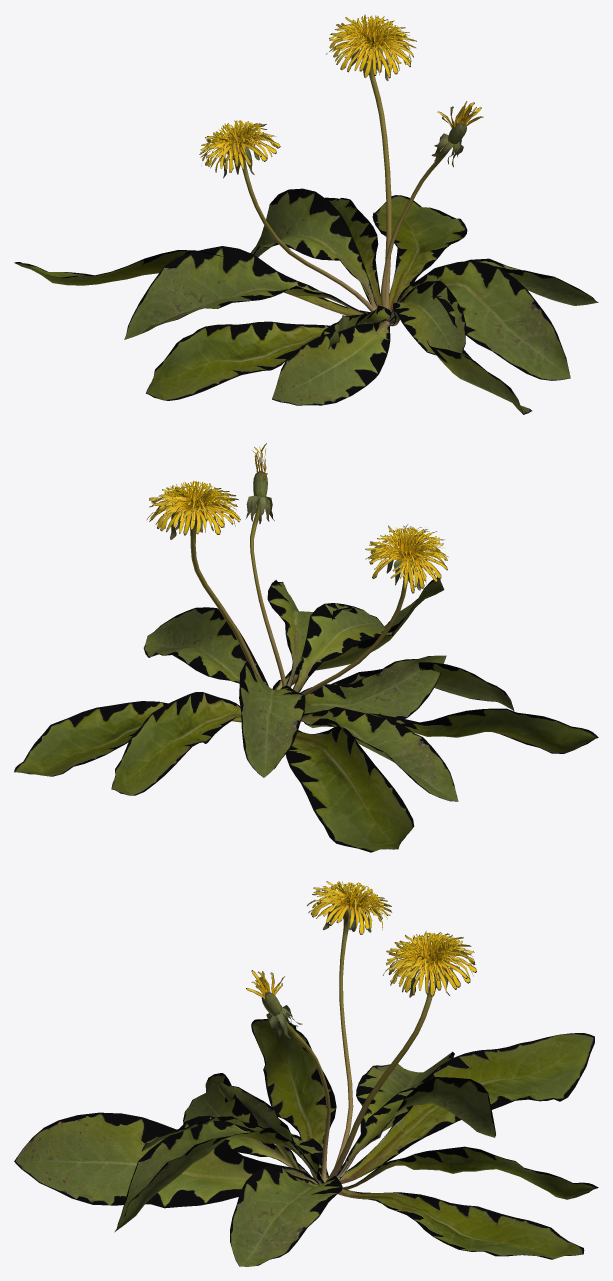
File: Planta_7.glb
3 views of the same model, one above another, from view 1: azimuth 30°, elevation 25°; view 2: azimuth 150°, elevation 25°; view 3: azimuth 270°, elevation 25° (orthographic). The views are drawn at different scales.
Parts seen in each view (by area): view 1: Planta 7; view 2: Planta 7; view 3: Planta 7.
Boxes of the visible parts, bbox=[...] form: Planta 7: bbox=[14, 14, 598, 414]; Planta 7: bbox=[14, 443, 598, 852]; Planta 7: bbox=[14, 881, 598, 1266].
Size of the model in its own units: 0.3632 by 0.205 by 0.3923.
Materials: 1 (1 with a texture image).
